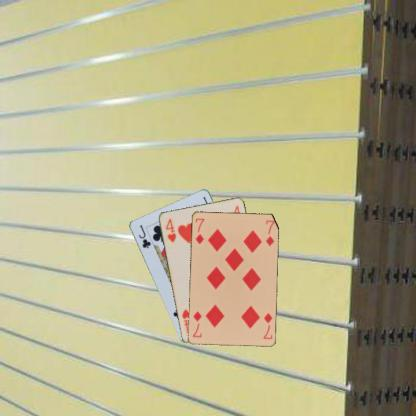4h: (163, 216, 177, 243)
7d: (193, 215, 206, 245), (261, 310, 273, 340)
Jc: (136, 222, 152, 250)
